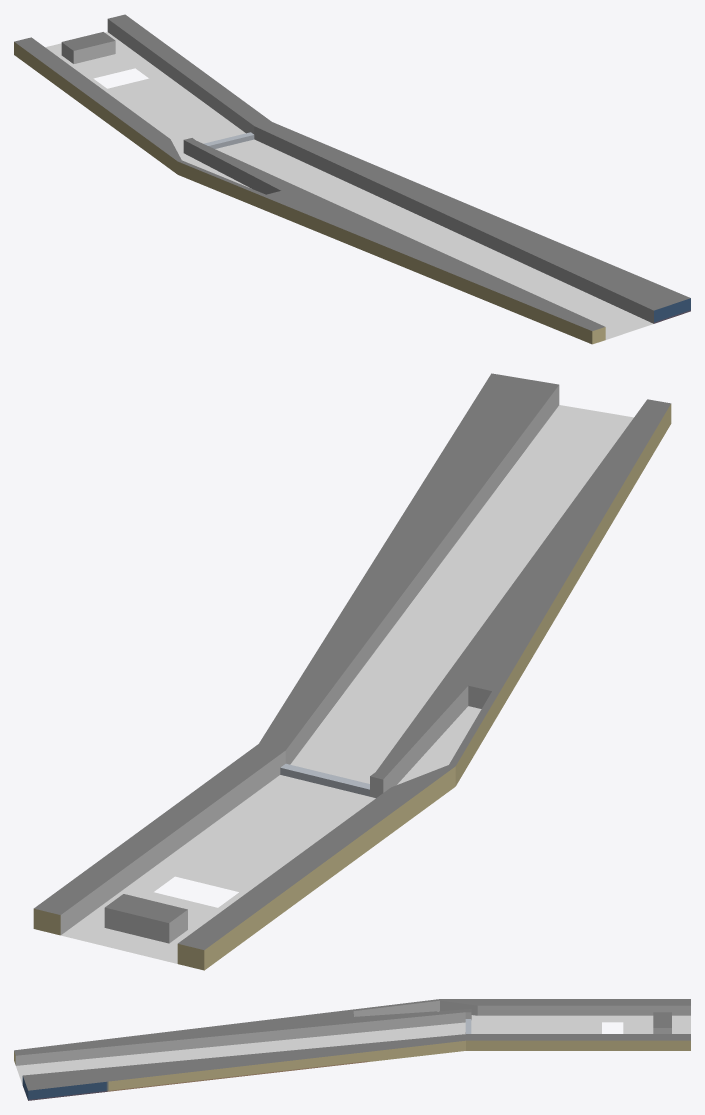
File: secondfloor.obj
The picture shows the model from 3 angles, top to bottom: view 1: azimuth 30°, elevation 25°; view 2: azimuth 150°, elevation 25°; view 3: azimuth 270°, elevation 25°; orthographic projection. The views are drawn at different scales.
Visible parts, largest first — view 1: soraria2f_Cube.070; view 2: soraria2f_Cube.070; view 3: soraria2f_Cube.070.
Part boxes in pixels (box(x1,y1,x2,y2)): soraria2f_Cube.070: box(14, 14, 690, 344); soraria2f_Cube.070: box(33, 373, 671, 970); soraria2f_Cube.070: box(14, 999, 690, 1100).
Size of the model in its own units: 0.6577 by 0.0341 by 2.05.
Materials: 1 (1 with a texture image).
